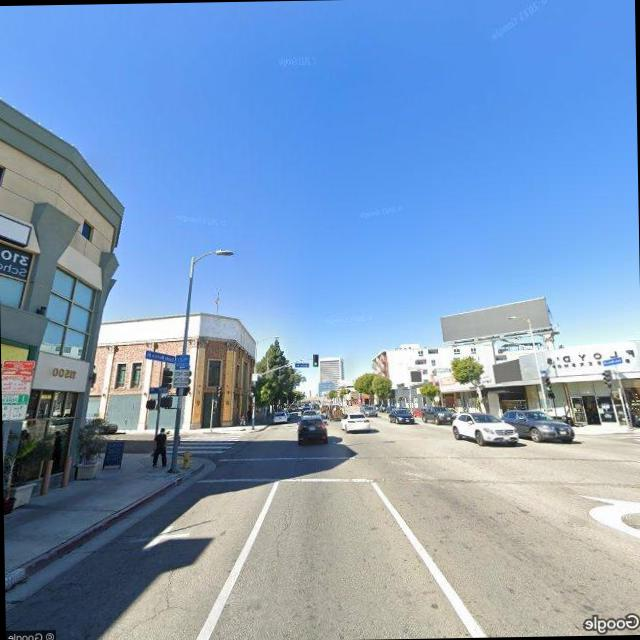pothole: (124, 562, 188, 636), (271, 481, 299, 562)
